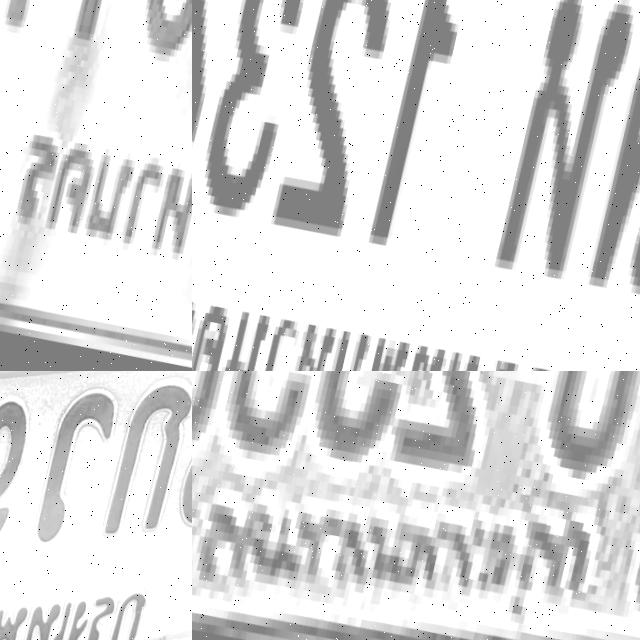license-plate: (192, 0, 640, 371), (192, 371, 640, 640), (0, 0, 192, 371), (0, 371, 192, 640)
